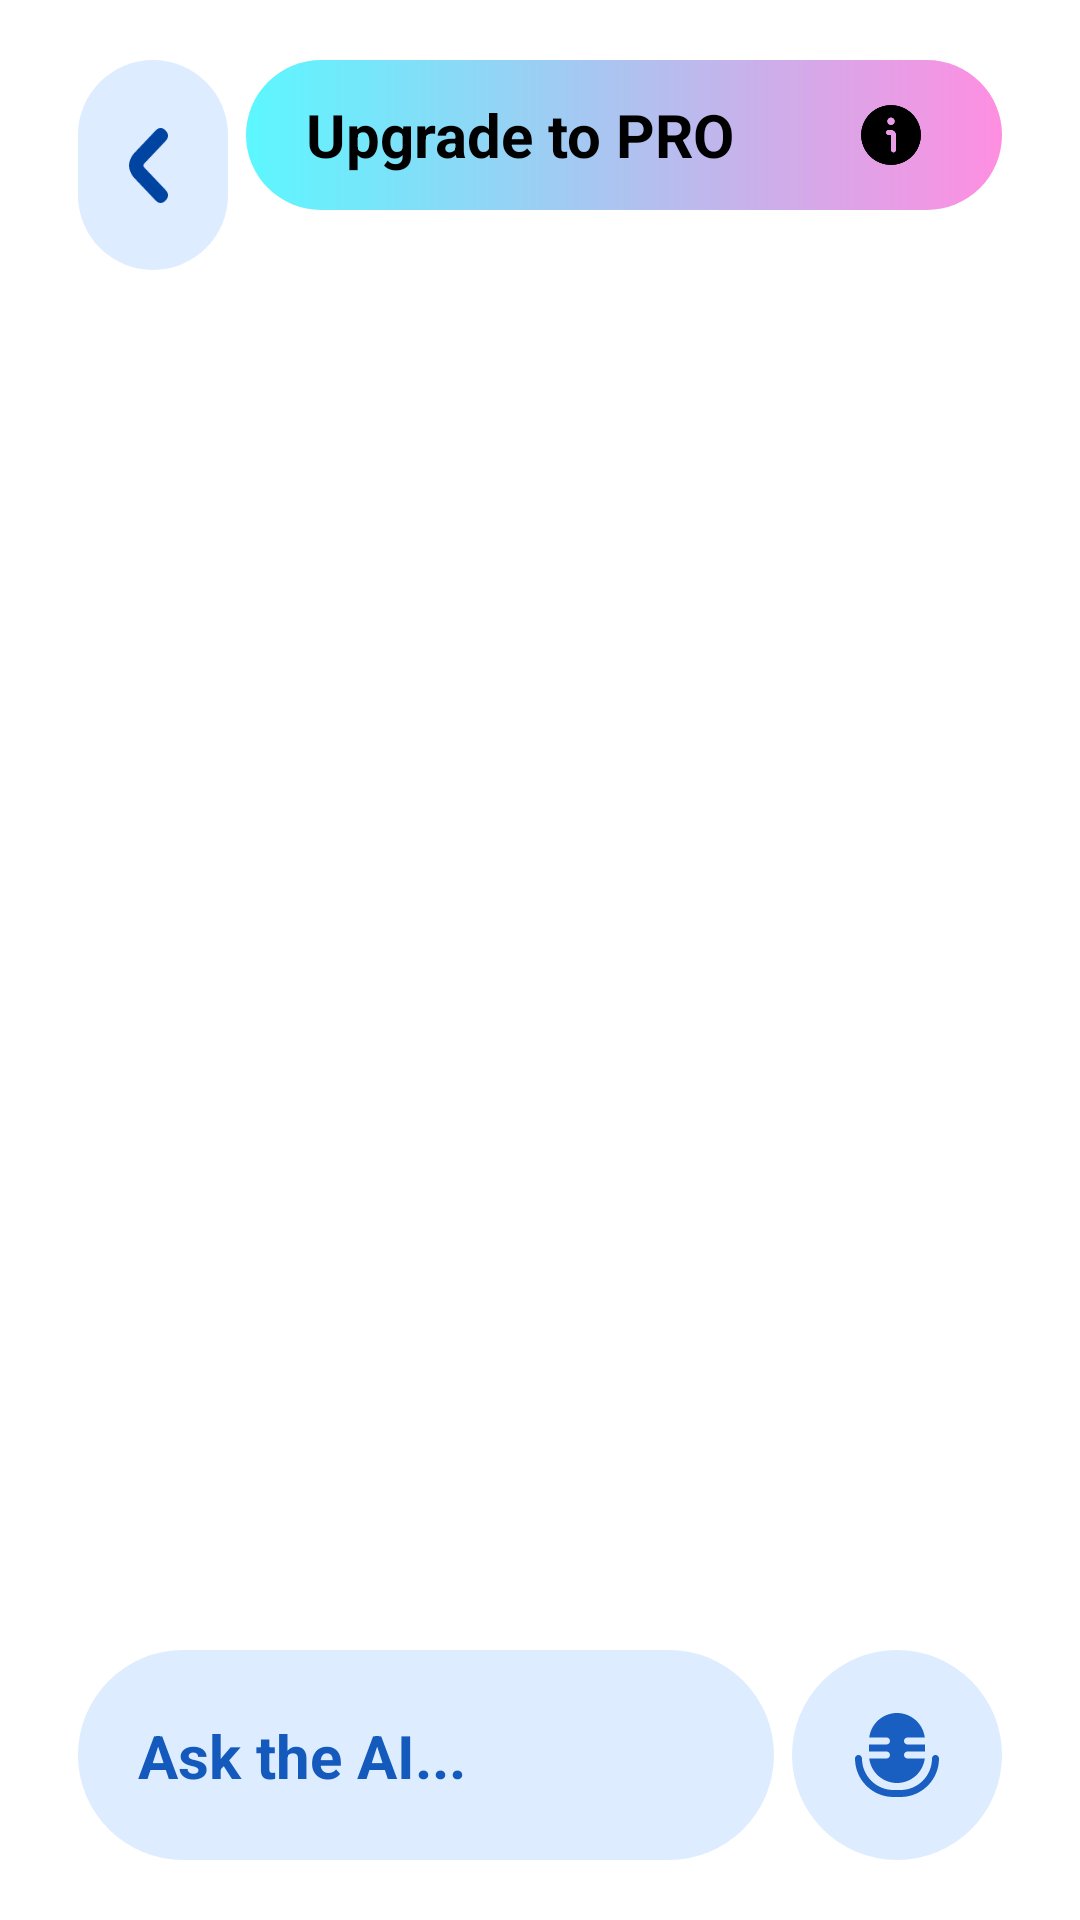

Icon click points for this 1080x1920 phone screenshot, format (x=x, y=y):
mic: (x=897, y=1755)
